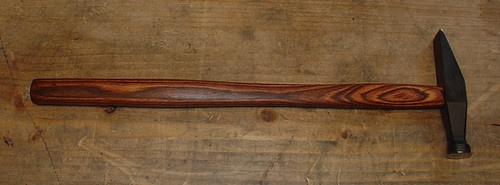hammer: (31, 27, 472, 160)
